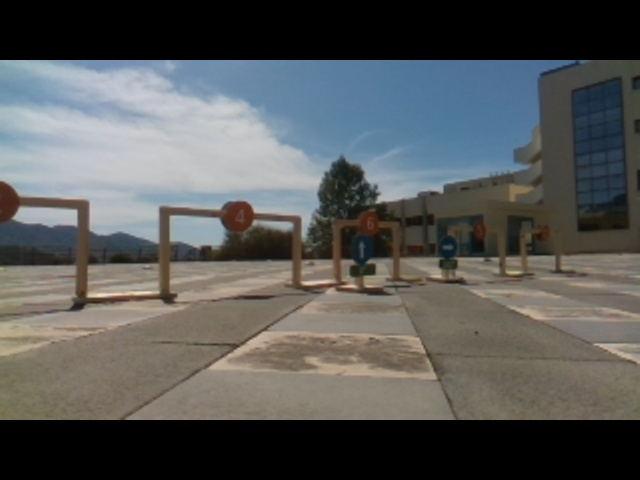arrow_right: (434, 232, 462, 259)
arrow_up: (351, 236, 374, 264)
checkpoint_foot: (73, 290, 128, 303), (122, 287, 177, 300), (284, 276, 326, 288), (386, 272, 422, 283)
checkpoint_side: (72, 196, 94, 299), (156, 203, 174, 296), (288, 210, 304, 286), (388, 217, 405, 277), (331, 216, 345, 283), (495, 222, 508, 272)
checkpoint_signal: (153, 204, 304, 221), (1, 188, 94, 215), (331, 215, 406, 234), (446, 223, 506, 237)
four: (219, 197, 257, 231)
six: (359, 209, 381, 235)
